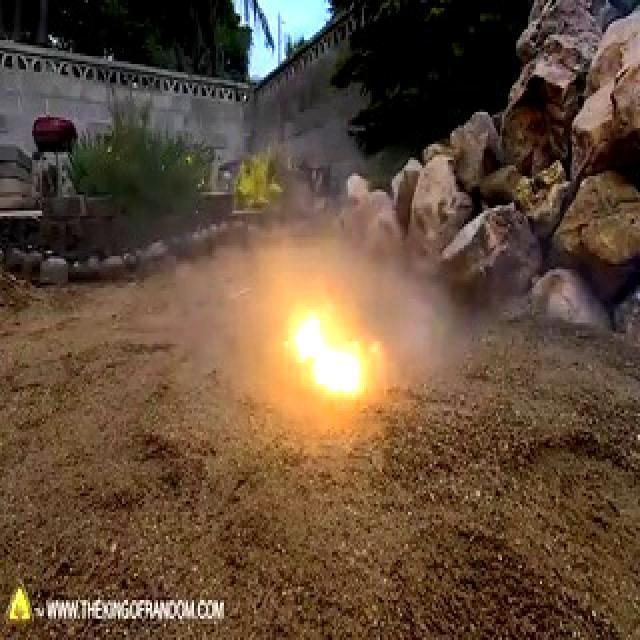Fire: (282, 276, 377, 397)
Smoke: (356, 214, 478, 420), (170, 224, 284, 427)
